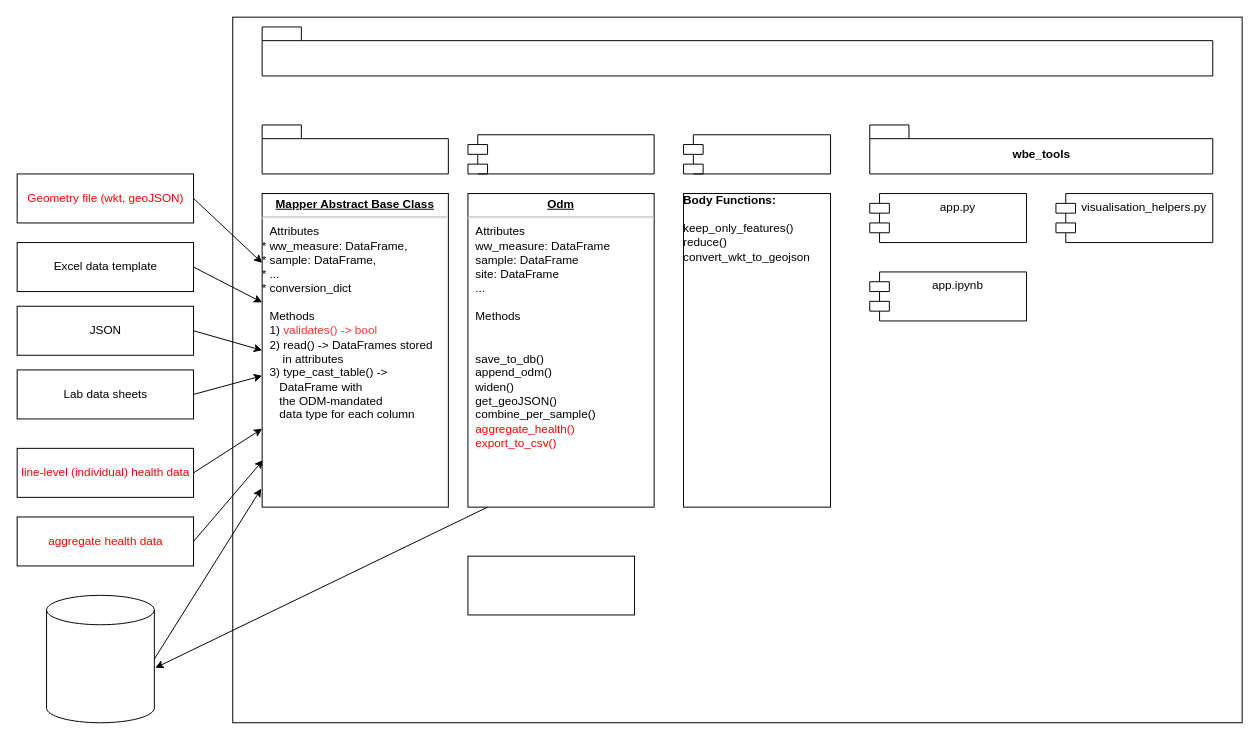
Image size: 1259x740. Some labels were removed from this diagram. The centre of each missing label's shape, as x and y in pixels:
"DB" belongs at pixel 100 658.
"odm.py" belongs at pixel 560 154.
"odm_mappers" belongs at pixel 354 149.
"OdmEncoder default() -> turns Odm object into JSON string" belongs at pixel 551 585.
"utilities.py" belongs at pixel 757 154.
"wbe_odm" belongs at pixel 737 51.
